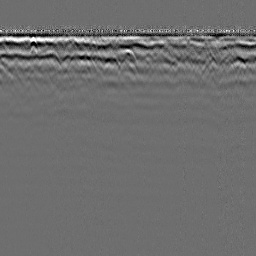cavity: (118, 48, 135, 60)
